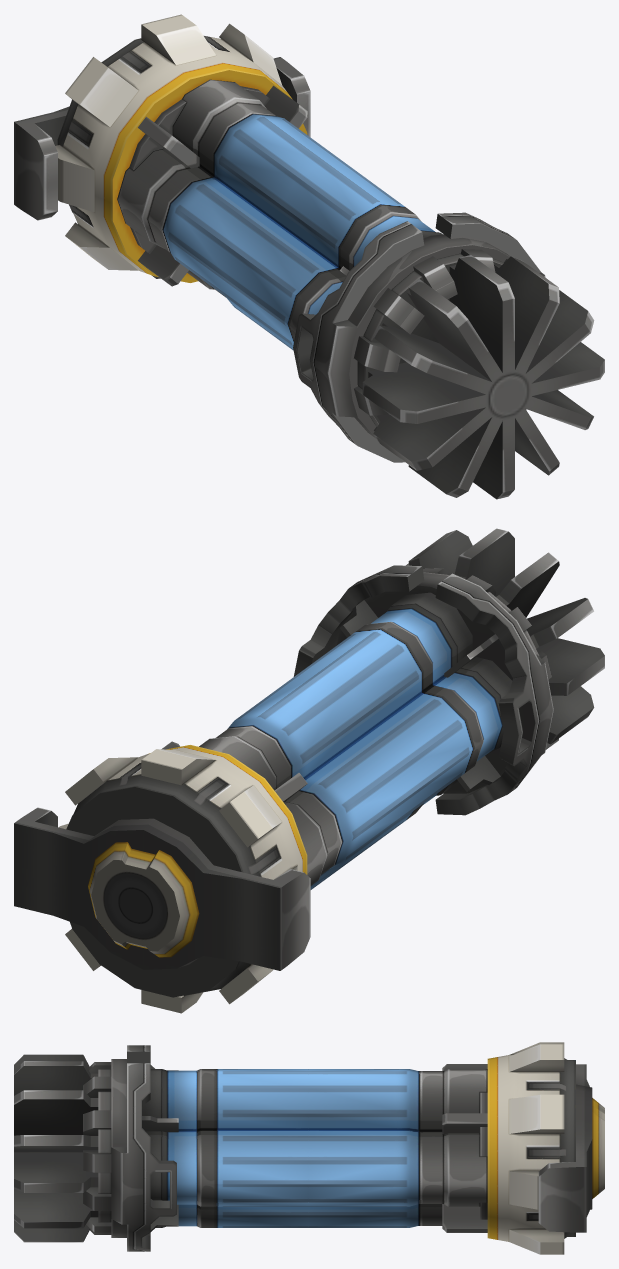
Rendered from Ice Pot.glb.
3 renders of one model, top to bottom at view 1: azimuth 30°, elevation 25°; view 2: azimuth 150°, elevation 25°; view 3: azimuth 270°, elevation 25°, orthographic. The views are drawn at different scales.
Parts seen in each view (by area): view 1: SkillObj_Aloy_IcePot_LOD0; view 2: SkillObj_Aloy_IcePot_LOD0; view 3: SkillObj_Aloy_IcePot_LOD0.
Part boxes in pixels (x1,y1,x2,y2): SkillObj_Aloy_IcePot_LOD0: (14,14,604,499); SkillObj_Aloy_IcePot_LOD0: (14,528,604,1013); SkillObj_Aloy_IcePot_LOD0: (14,1042,604,1254).
Bounding box in the file's own units: 0.1025 × 0.0896 × 0.2488.
Materials: 1 (1 with a texture image).
